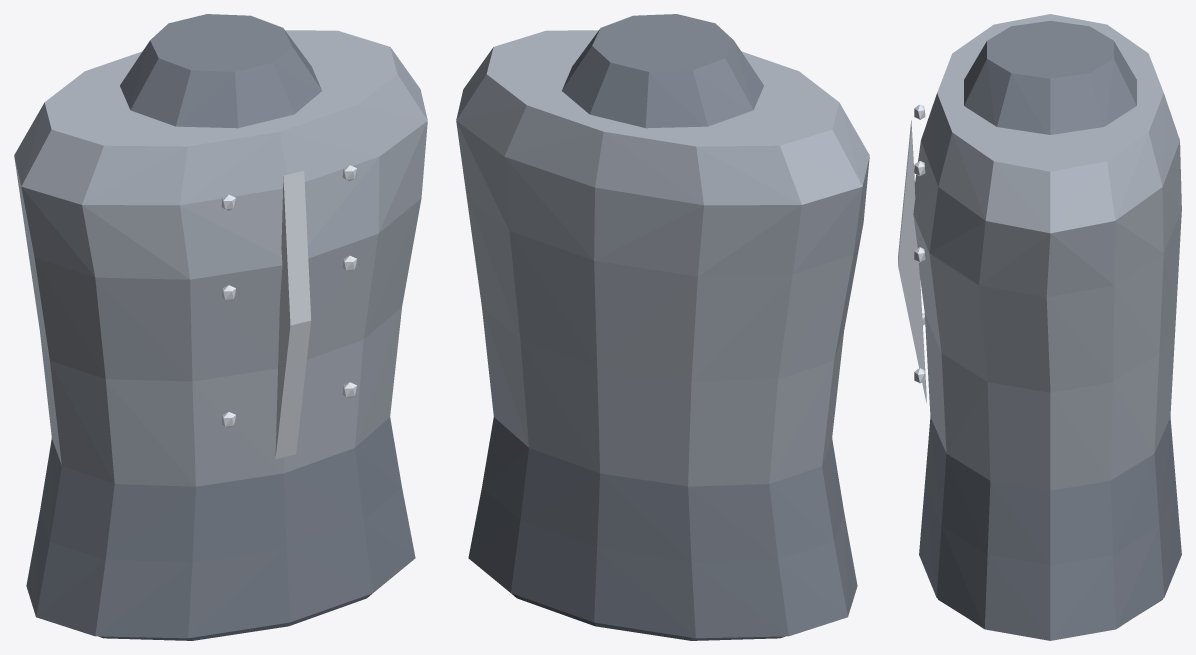
The model's file is gear_steel_body_torso_m.glb.
3 views of the same model, side by side, from view 1: azimuth 30°, elevation 25°; view 2: azimuth 150°, elevation 25°; view 3: azimuth 270°, elevation 25° (orthographic). The views are drawn at different scales.
Parts seen in each view (by area): view 1: gear_steel_body_torso_m; view 2: gear_steel_body_torso_m; view 3: gear_steel_body_torso_m.
Boxes of the visible parts, left/top/right/bottom form: gear_steel_body_torso_m: left=14, top=14, right=427, bottom=640; gear_steel_body_torso_m: left=456, top=14, right=869, bottom=640; gear_steel_body_torso_m: left=898, top=14, right=1181, bottom=640.
Bounding box in the file's own units: 0.462 × 0.59 × 0.298.
